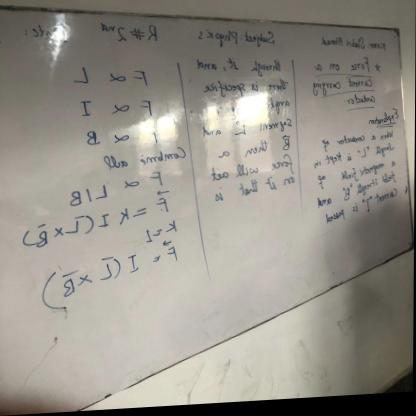Handwritten text: (307, 105, 406, 239), (177, 55, 287, 83), (92, 142, 191, 173), (183, 24, 275, 56), (202, 179, 300, 208), (198, 94, 292, 124), (202, 157, 301, 184), (196, 119, 297, 143), (205, 137, 301, 162), (197, 78, 293, 102), (56, 174, 114, 209), (310, 58, 374, 85), (313, 36, 373, 58), (128, 163, 172, 193), (65, 54, 98, 91), (76, 123, 108, 152), (139, 127, 165, 150), (127, 69, 154, 91), (79, 98, 97, 123), (134, 101, 163, 116)
Whiteboard: (0, 4, 414, 415)
